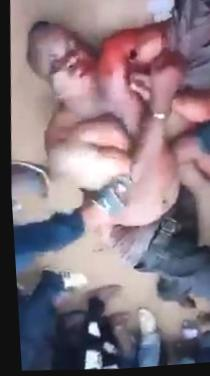Fire: (75, 23, 168, 92)
